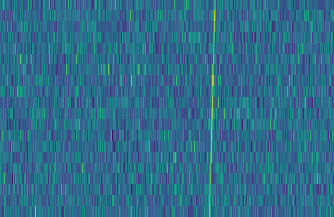signal: (205, 0, 219, 217)
